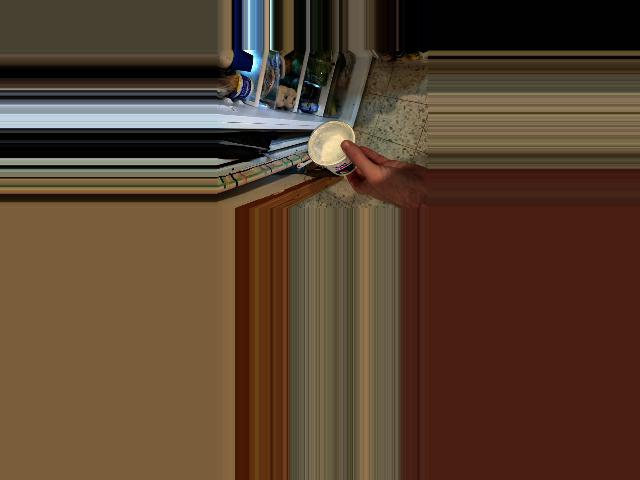cotage: (302, 120, 362, 178)
